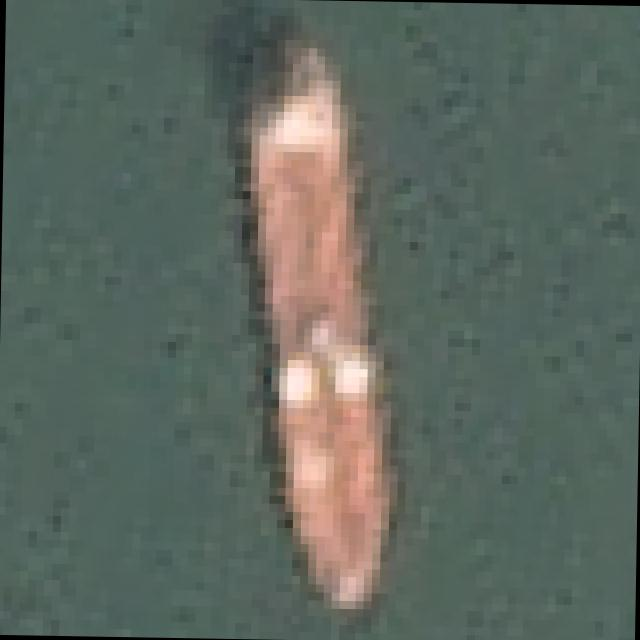ship: (192, 0, 465, 629)
